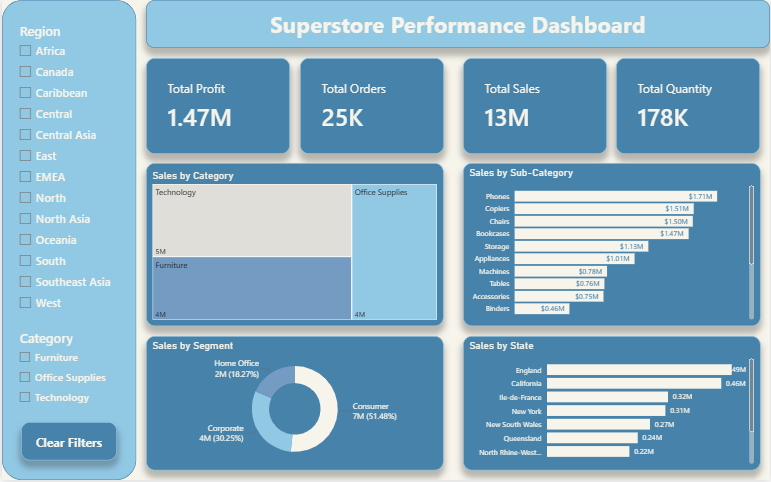

This screenshot's page, from the dashboard's own definition file:
{"tool":"powerbi","page":{"name":"Duplicate of Page 1","canvas":[1280,800],"ordinal":1},"visuals":[{"type":"textbox","box":[240,0,1040,80],"z":0},{"type":"cardVisual","title":"fefeg","fields":{"Data":["Measure.Total Sales"]},"box":[768,96,240,160],"z":1000},{"type":"cardVisual","title":"fefeg","fields":{"Data":["Measure.Total Quantity"]},"box":[1024,96,240,160],"z":2000},{"type":"cardVisual","title":"fefeg","fields":{"Data":["Measure.Total Orders"]},"box":[496,96,240,160],"z":3000},{"type":"shape","box":[0,0,224,800],"z":4000},{"type":"cardVisual","title":"fefeg","fields":{"Data":["Measure.Total Profit"]},"box":[240,96,240,160],"z":5000},{"type":"slicer","fields":{"Values":["superstore.Region"]},"box":[16,32,224,512],"z":6000},{"type":"slicer","fields":{"Values":["superstore.Category"]},"box":[16,544,224,240],"z":7000},{"type":"treemap","title":"Sales by Category","fields":{"Group":["superstore.Category"],"Values":["Sum(superstore.Sales)"]},"box":[240,272,496,272],"z":8000},{"type":"clusteredBarChart","title":"Sales by Sub-Category","fields":{"Category":["superstore.Sub-Category"],"Y":["Sum(superstore.Sales)"]},"box":[768,272,496,272],"z":9000},{"type":"donutChart","title":" Sales by Segment","fields":{"Category":["superstore.Segment"],"Y":["Sum(superstore.Sales)"]},"box":[240,560,496,224],"z":10000},{"type":"barChart","title":"Sales by State","fields":{"Category":["superstore.State"],"Y":["Sum(superstore.Sales)"]},"box":[768,560,496,224],"z":11000},{"type":"actionButton","box":[32,704,160,64],"z":12000}]}

Visuals, with their boxes in screenshot pixels (x1, y1, x2, y2), scaled from the page's 1280x800 canvas onto the 771x482 screenshot:
textbox: 145:0:770:48
"fefeg" cardVisual: 463:58:607:154
"fefeg" cardVisual: 617:58:761:154
"fefeg" cardVisual: 299:58:443:154
shape: 0:0:135:481
"fefeg" cardVisual: 145:58:289:154
slicer - superstore.Region: 10:19:145:328
slicer - superstore.Category: 10:328:145:472
"Sales by Category" treemap: 145:164:443:328
"Sales by Sub-Category" clusteredBarChart: 463:164:761:328
" Sales by Segment" donutChart: 145:337:443:472
"Sales by State" barChart: 463:337:761:472
actionButton: 19:424:116:463
